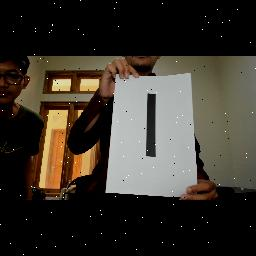i: (140, 85, 168, 177)
